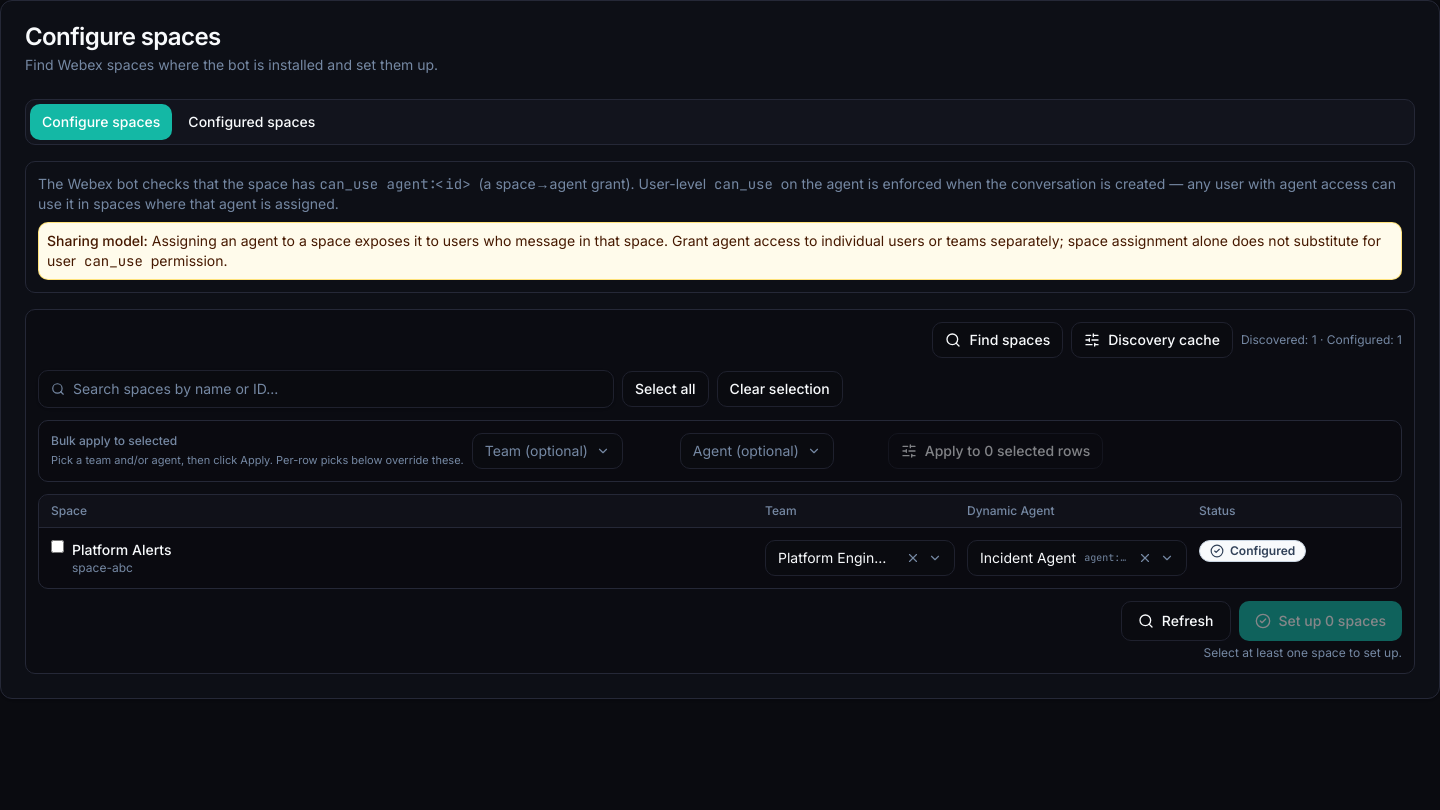
Test: discovers Webex bot spaces, auto-selects new ones, and POSTs per-space defaults on apply
Click the button "Find spaces".
click(998, 340)  # box [932,322,1063,358]
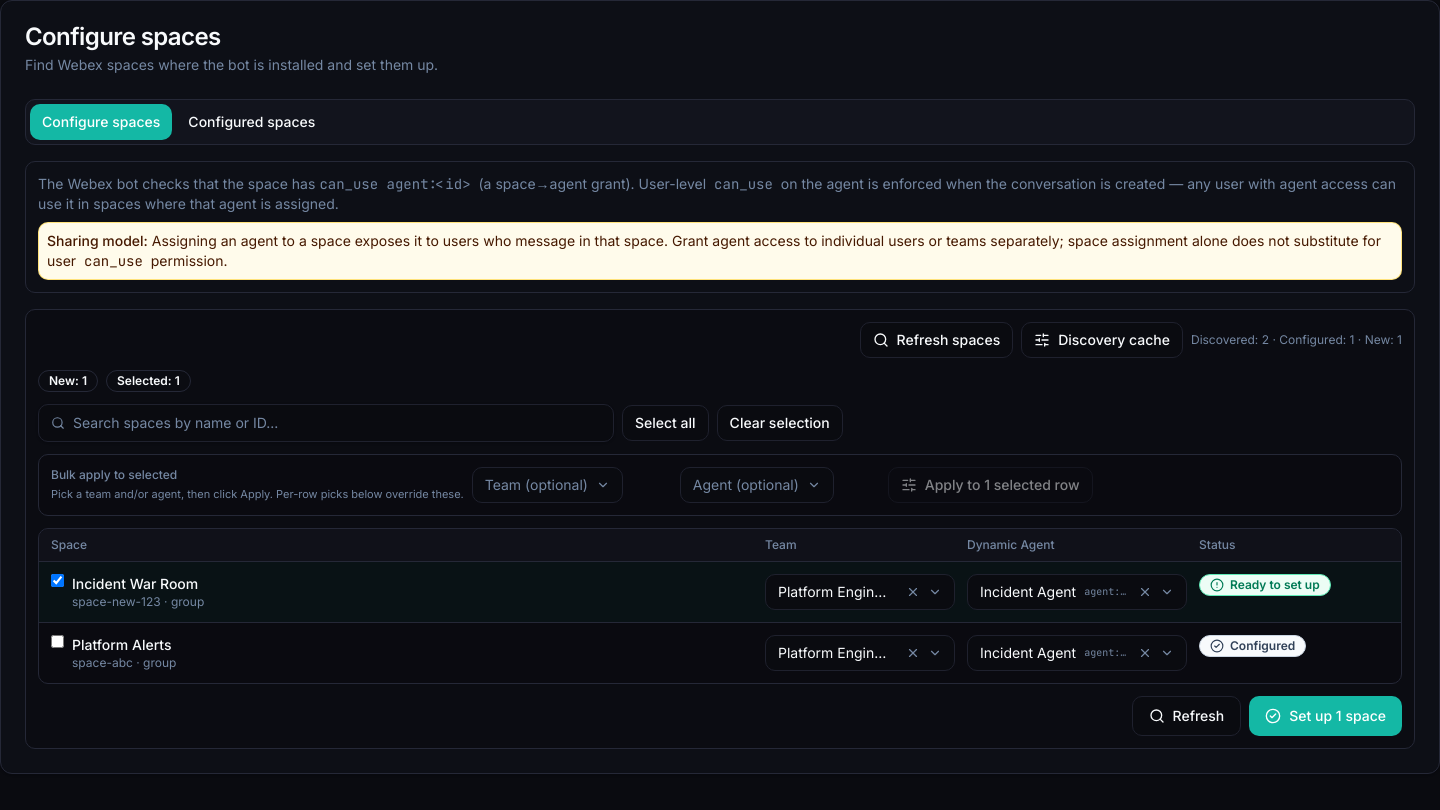
Expected: the checkbox named "Import Platform Alerts" is not checked, [51,635,64,648]
Now the message "Discovered: 2 · Configured: 1 · New: 1" is shown, box [1191,332,1402,348]
Now the checkbox named "Import Incident War Room" is checked, box [51,574,64,587]
Click the dropdown named "Team for Incident War Room".
click(860, 592)  # box [765,574,955,610]
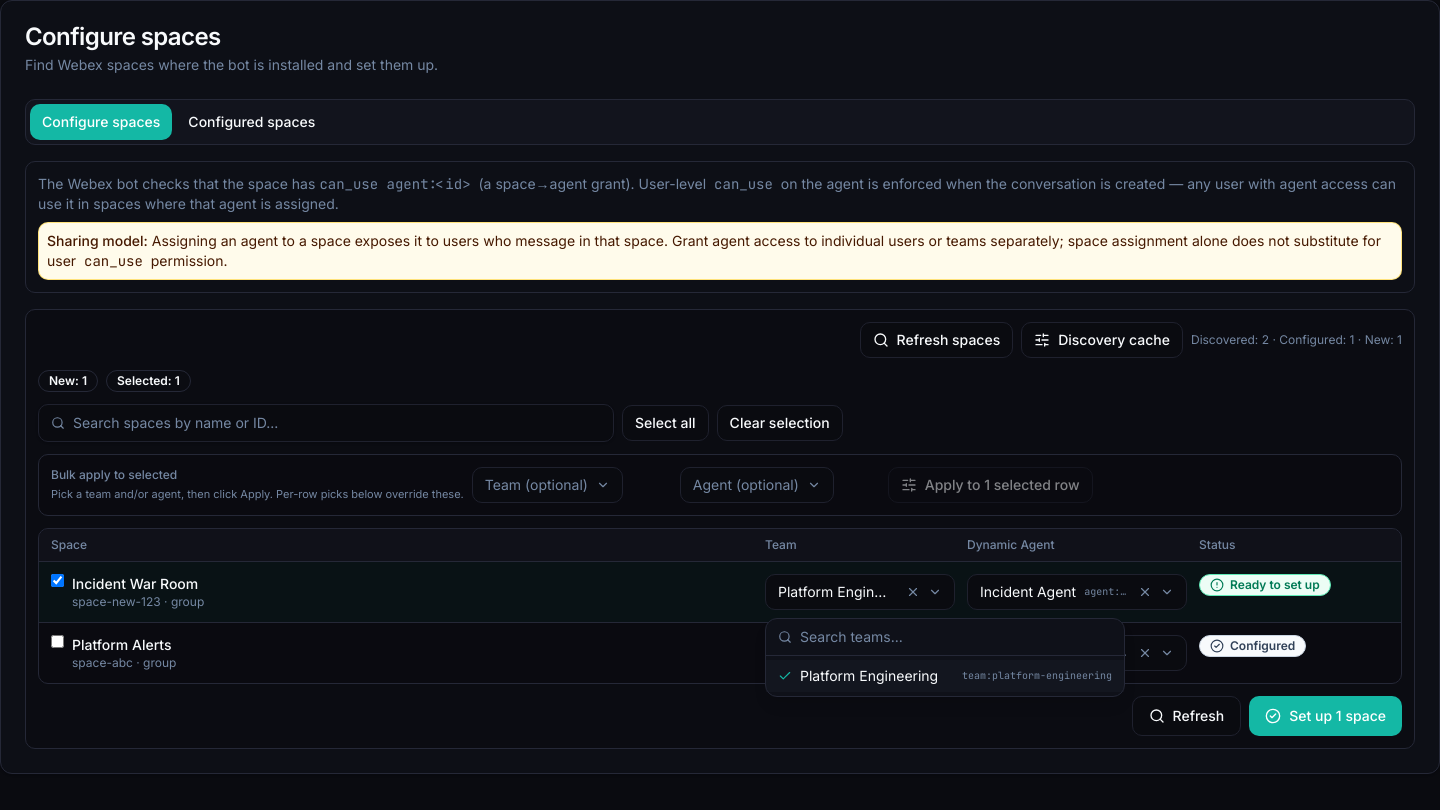
Click the option "Platform Engineering team:platform-engineering".
click(869, 676)  # box [766,660,1124,692]
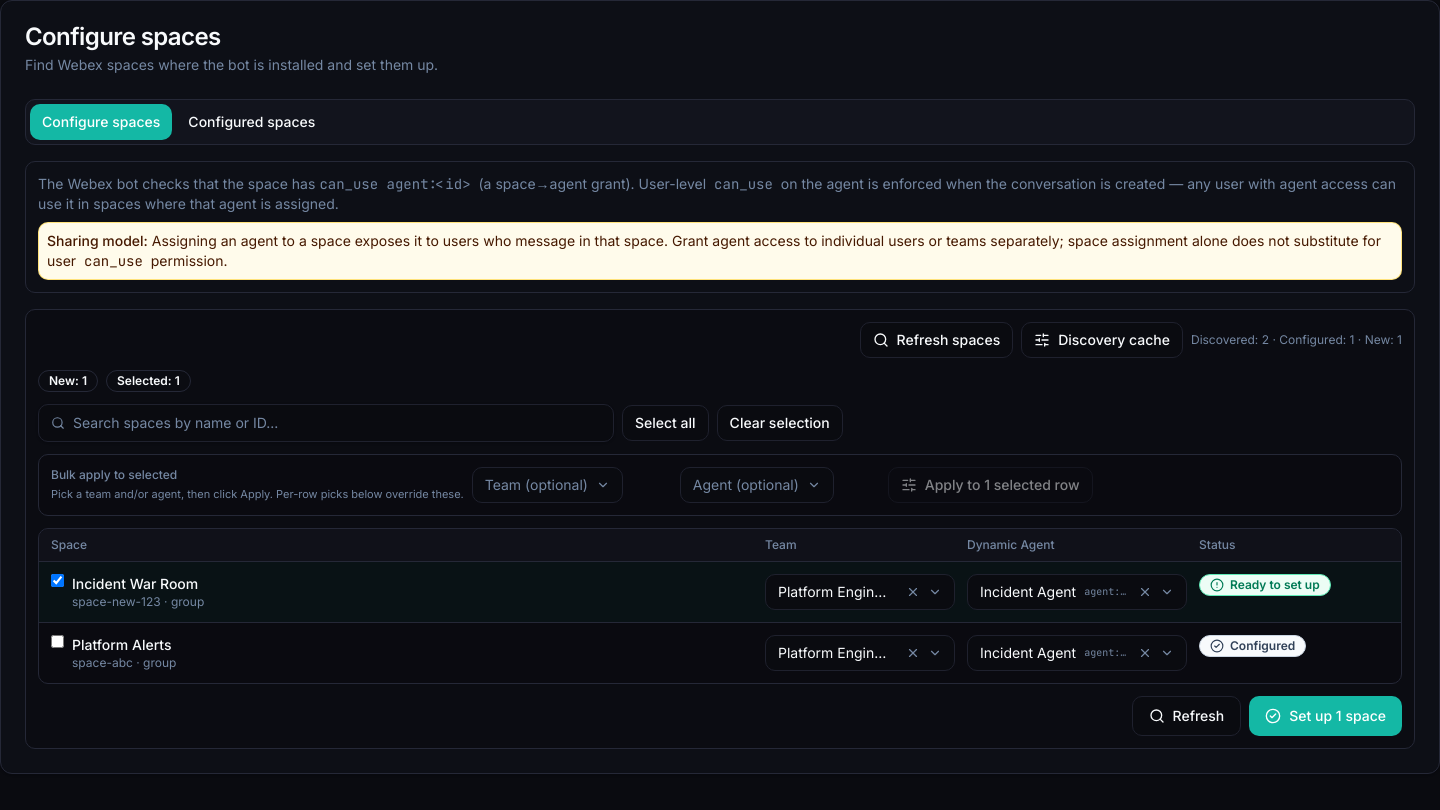
Click the button with aria-label "Dynamic Agent for Incident War Room".
click(1077, 592)  # box [967,574,1187,610]
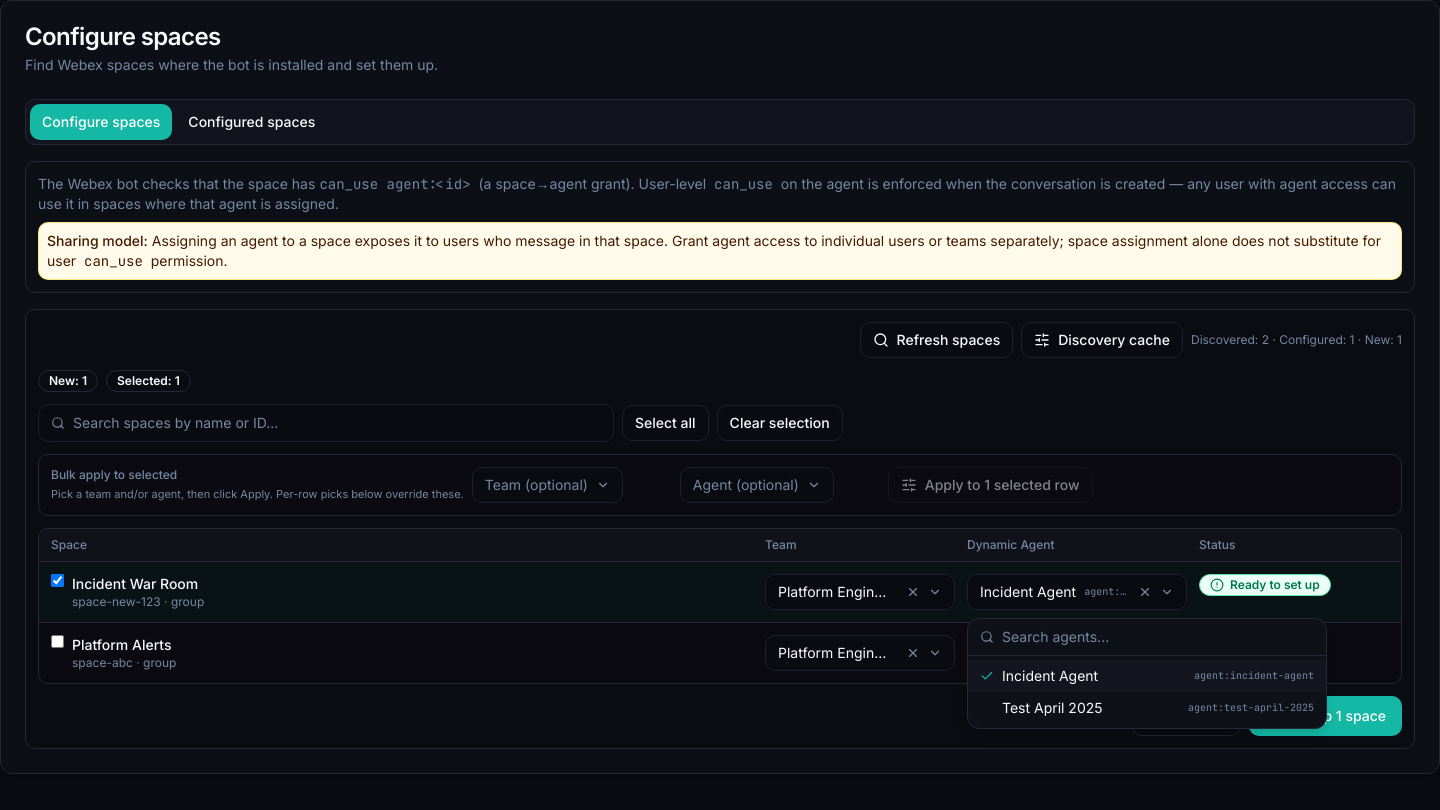
Click the option "Incident Agent agent:incident-agent".
click(1050, 676)  # box [968,660,1326,692]
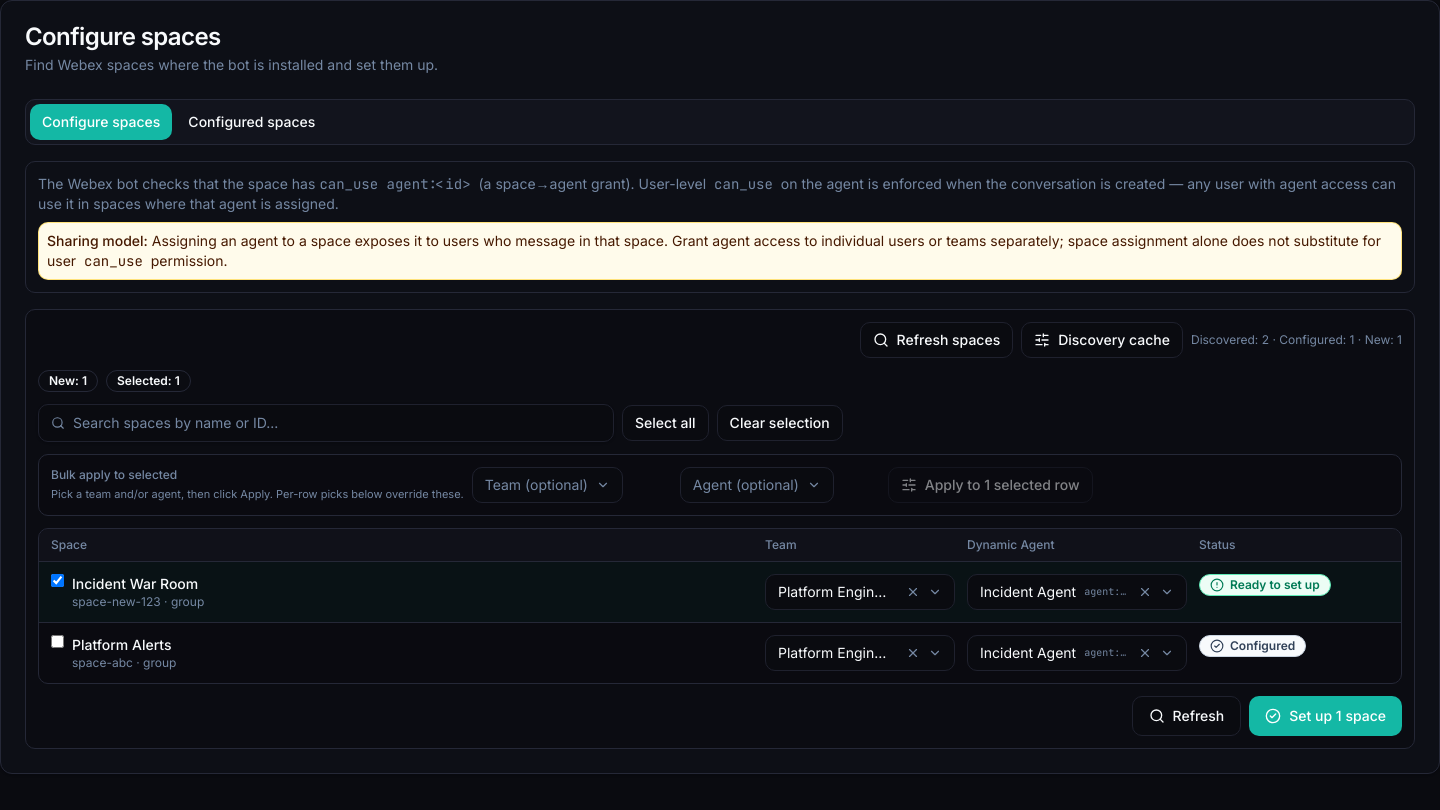
Click the button "Set up 1 space".
click(1326, 716)  # box [1249,696,1402,736]
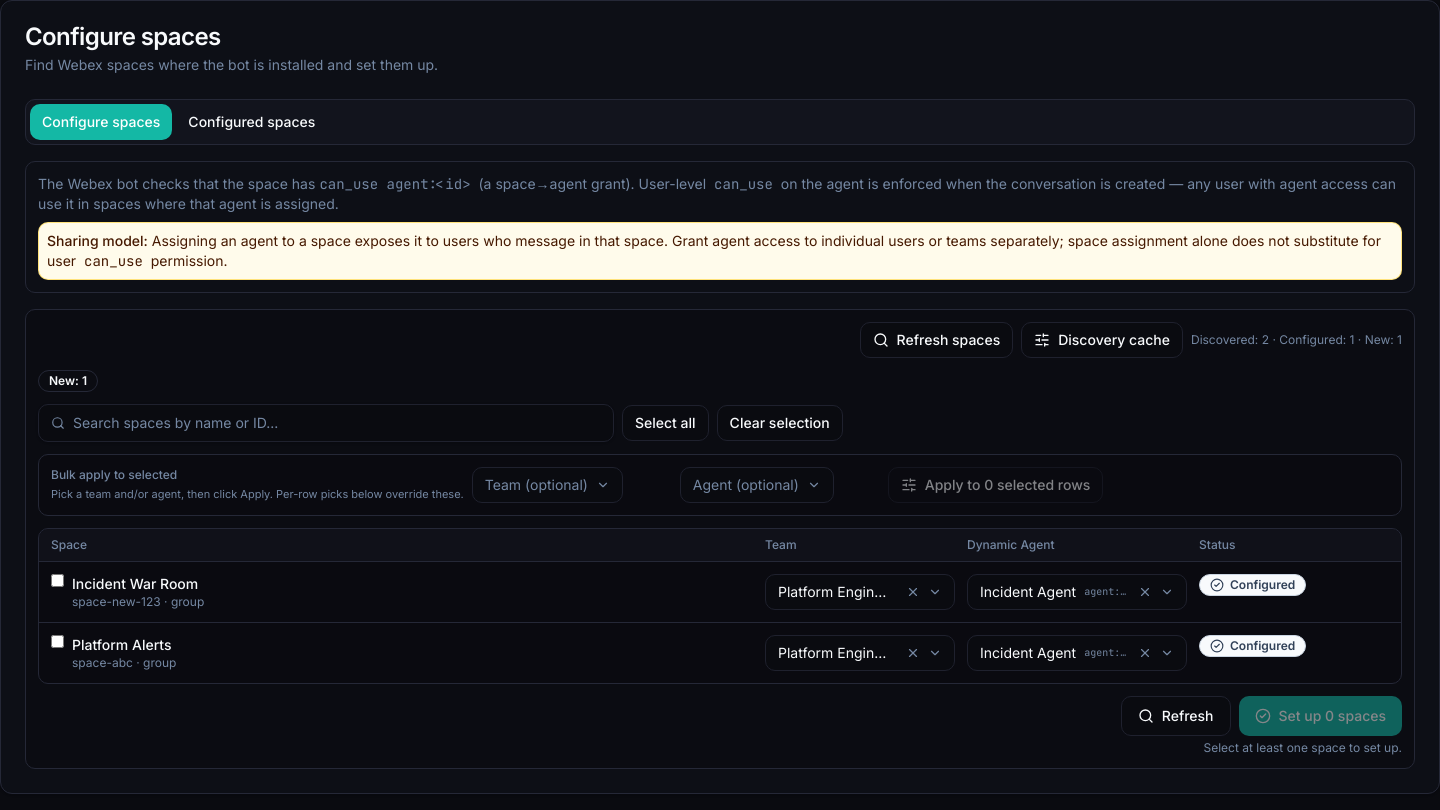
Now the text "Ready to set up" is gone
Now the text "Configured" in the row of "Incident War Room" is shown, box [1230,577,1295,592]
